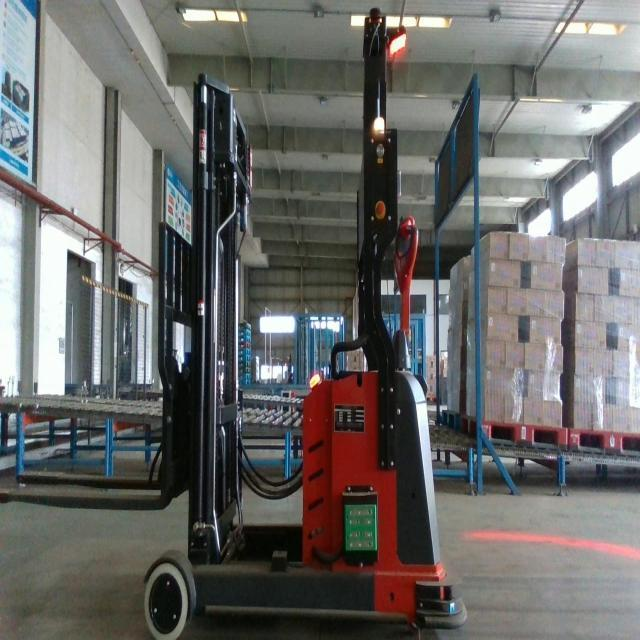forklift: (0, 6, 469, 640)
